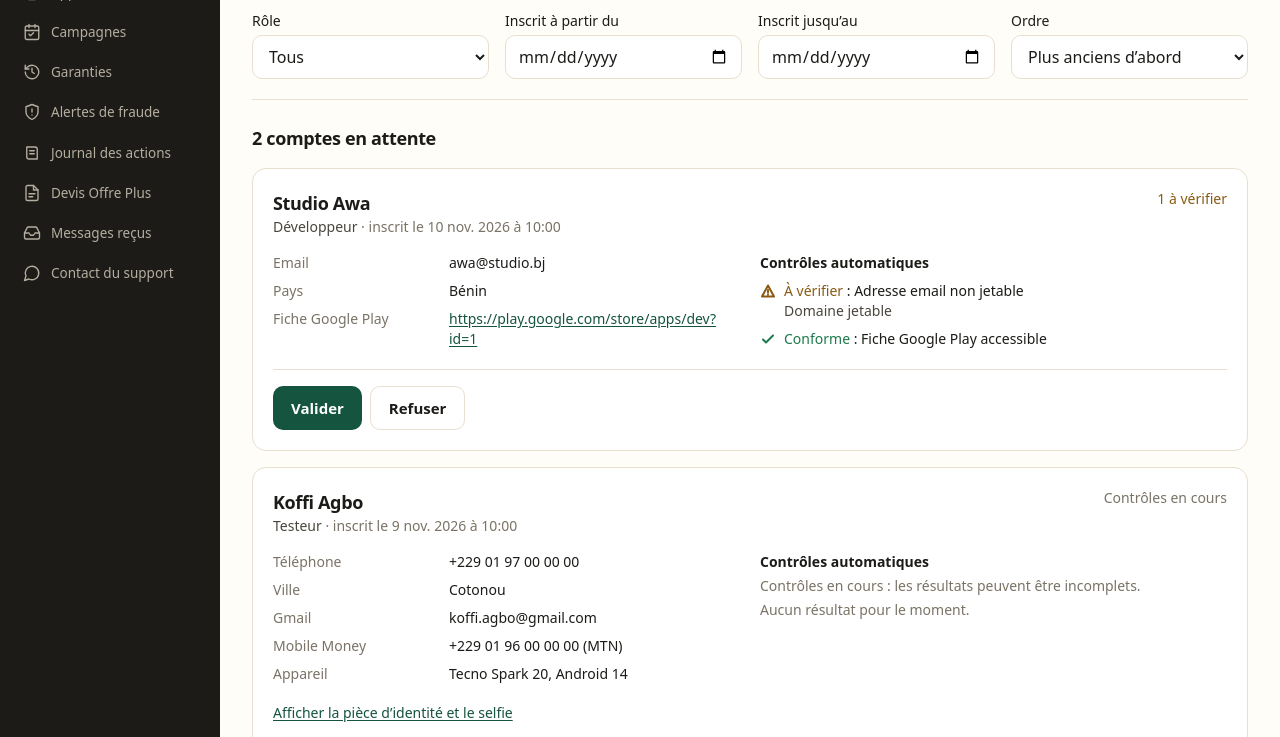
Test: Back-office : comptes en attente (US-08) › affiche les photos du testeur à la demande
(page scrolled)
Click the button "Afficher la pièce d’identité et le selfie". click: (393,713)
box: x1=273 y1=703 x2=513 y2=723
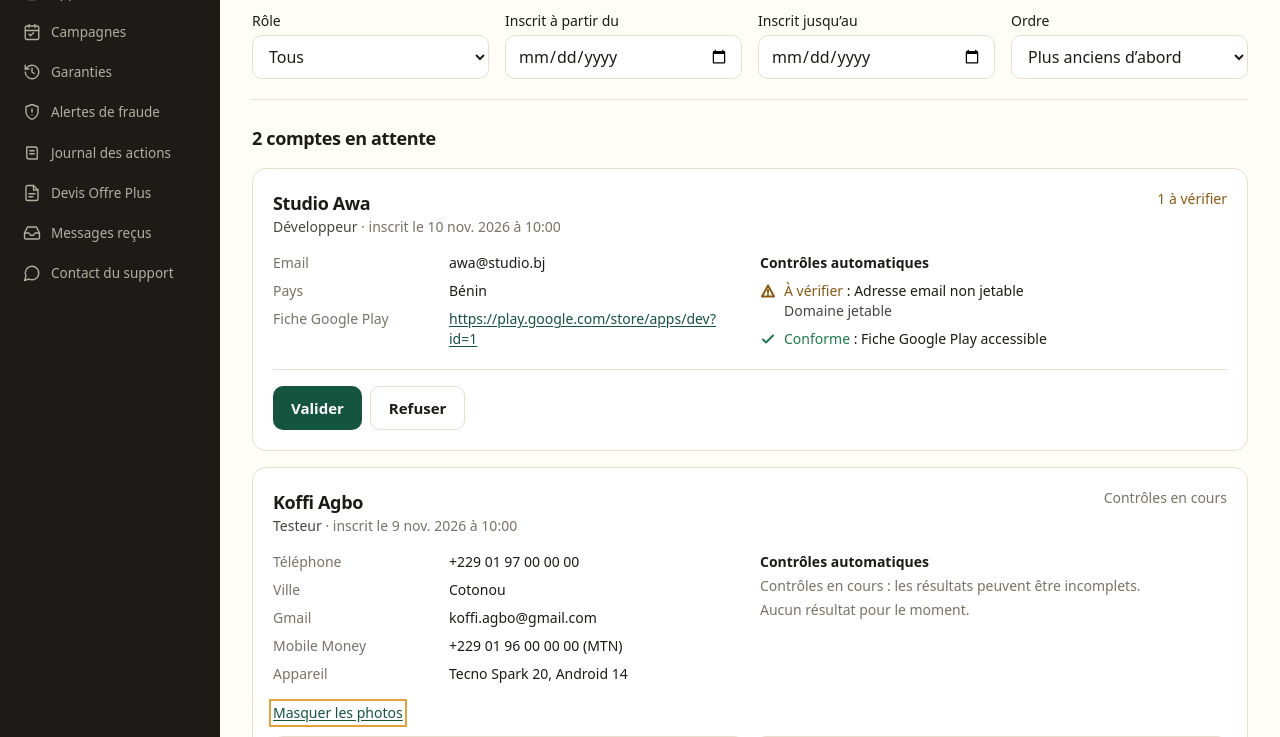
Now the button "Masquer les photos" is expanded, box x1=273 y1=703 x2=403 y2=723
